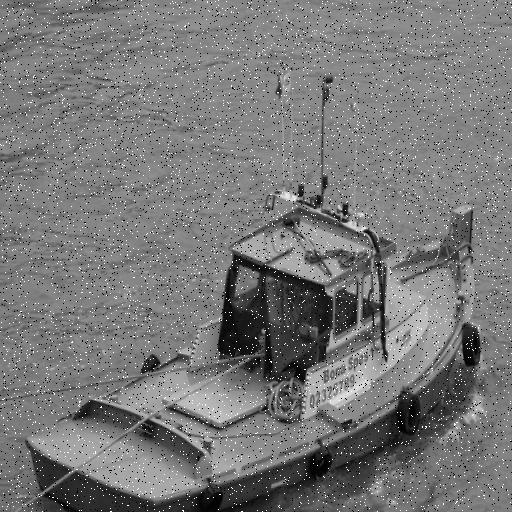tugboat: (21, 173, 486, 512)
